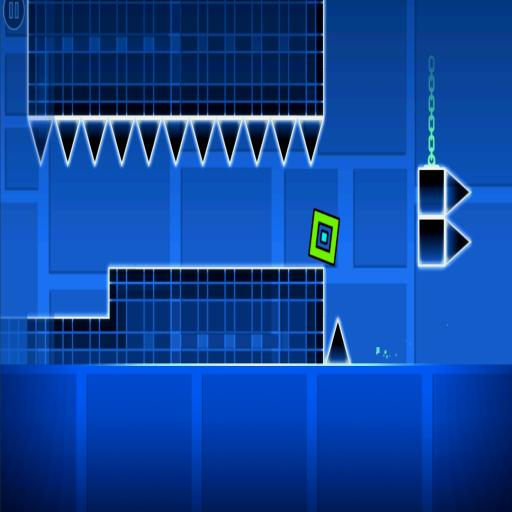block: (0, 257, 328, 373), (24, 0, 327, 114), (417, 163, 447, 270)
player: (309, 209, 340, 265)
spike: (326, 318, 351, 363), (30, 118, 53, 163), (446, 221, 471, 262), (446, 171, 470, 213), (165, 120, 188, 163), (137, 120, 160, 163), (84, 120, 106, 164), (110, 121, 133, 163), (273, 120, 295, 163), (219, 120, 241, 163), (300, 121, 322, 163), (246, 121, 268, 163), (192, 121, 214, 163), (57, 121, 79, 163)
